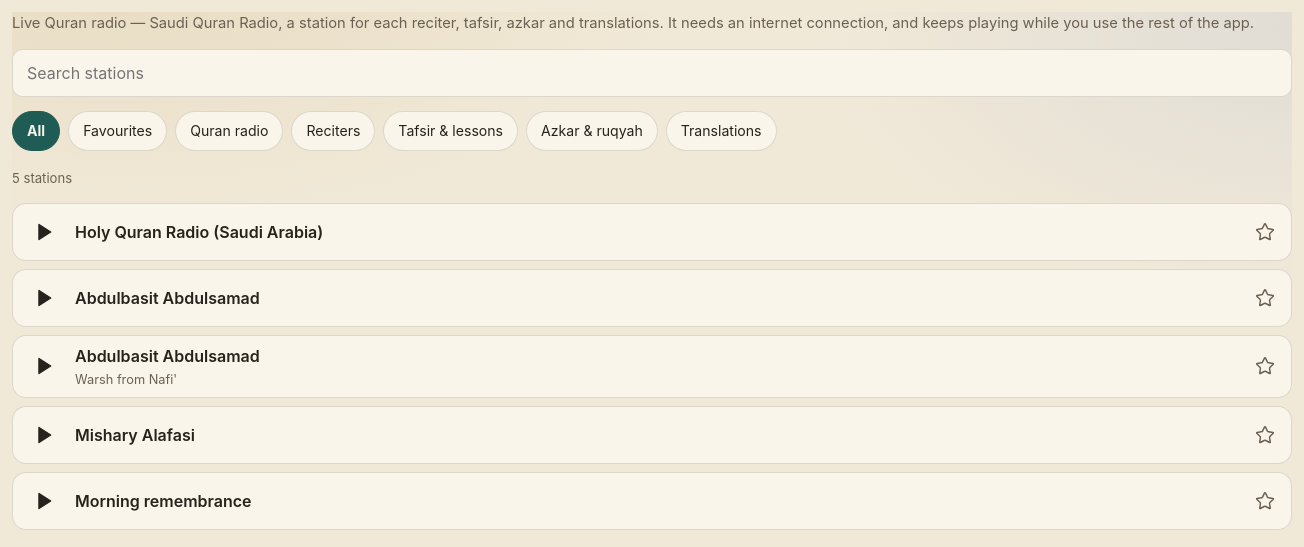
Test case: RadioBrowser › explains the empty Favourites list
Click the button "Favourites".
click(118, 131)  # box [68,111,167,151]
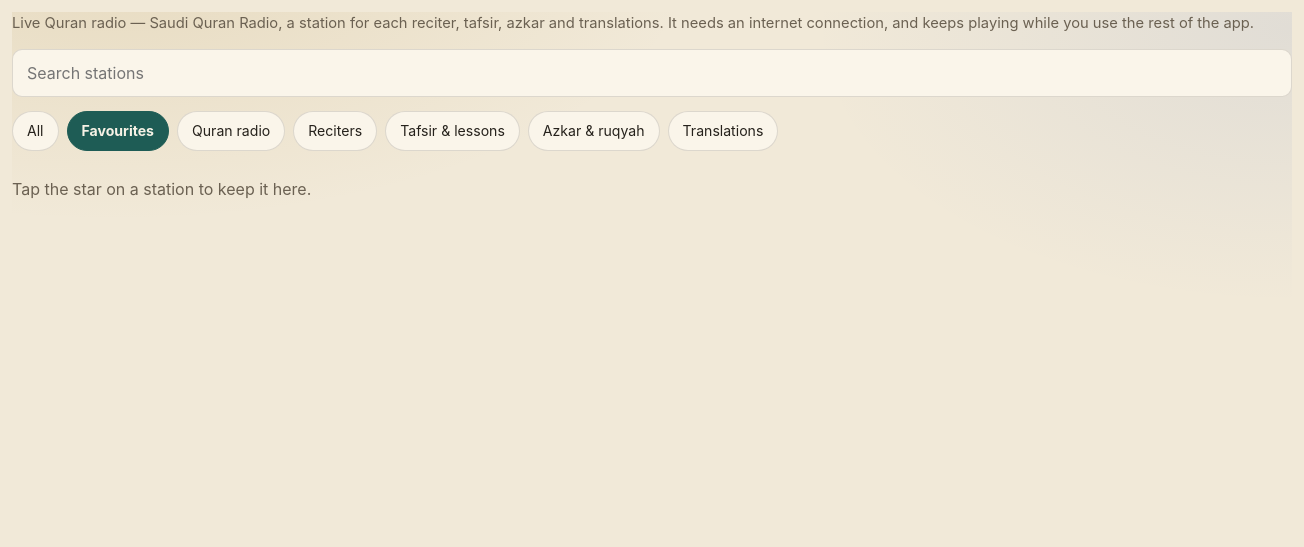
Expected: the text "Tap the star on a station to keep it here." is shown, [12,179,311,199]
